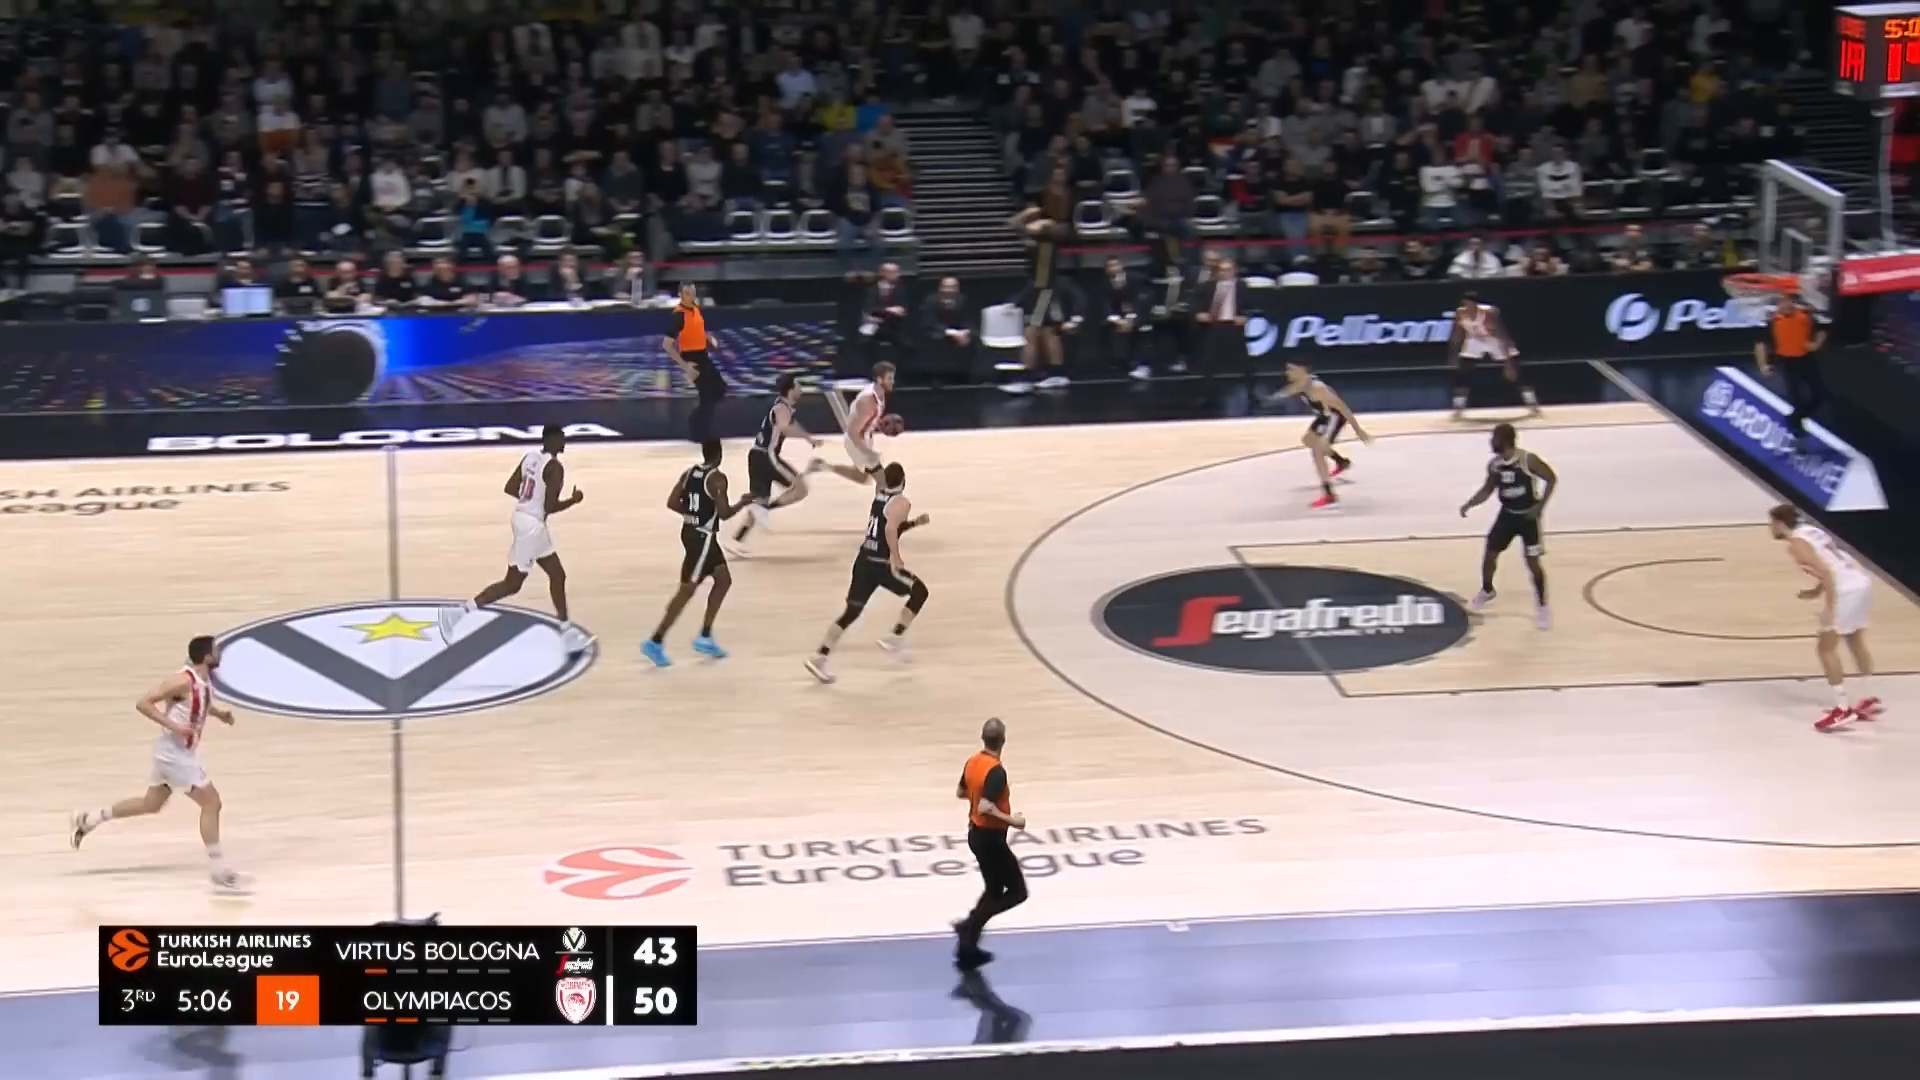ball: (880, 411, 906, 440)
net: (1724, 268, 1779, 328)
